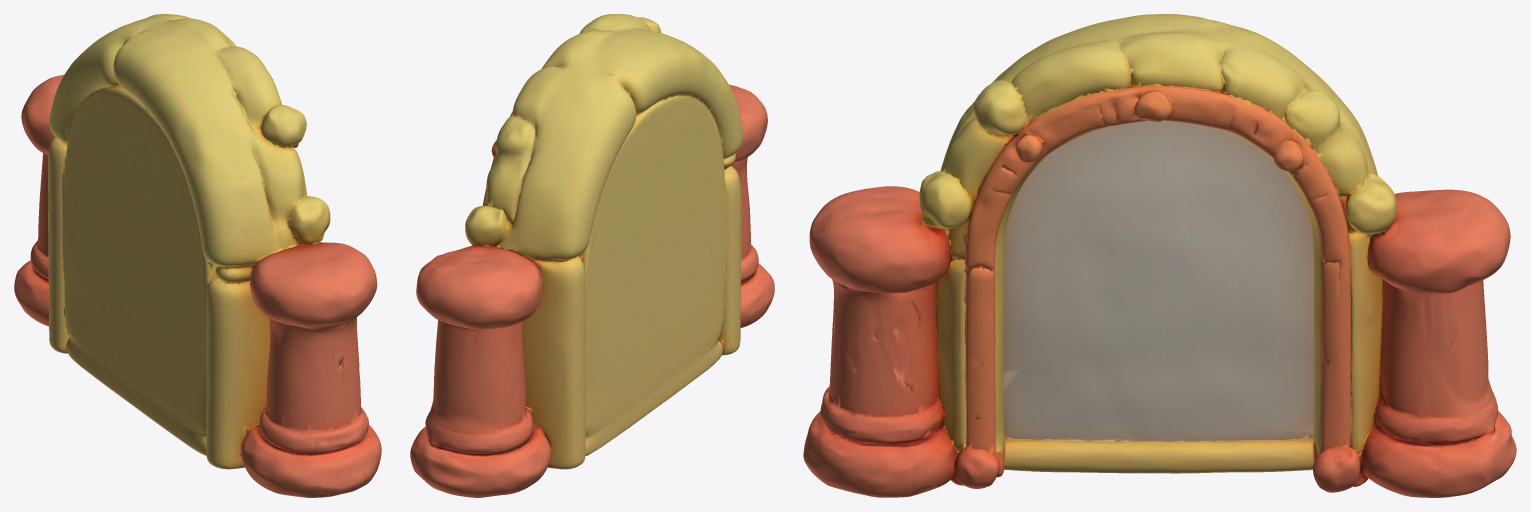
File: env_nest_arch_01.glb
3 views of the same model, side by side, from view 1: azimuth 30°, elevation 25°; view 2: azimuth 150°, elevation 25°; view 3: azimuth 270°, elevation 25° (orthographic). The views are drawn at different scales.
Parts seen in each view (by area): view 1: tripo_node_a0e7c1fe-4a0e-4bda-b374-2bde146a8497; view 2: tripo_node_a0e7c1fe-4a0e-4bda-b374-2bde146a8497; view 3: tripo_node_a0e7c1fe-4a0e-4bda-b374-2bde146a8497.
Boxes of the visible parts, x1,y1,x2,y2 form: tripo_node_a0e7c1fe-4a0e-4bda-b374-2bde146a8497: (14, 14, 381, 497); tripo_node_a0e7c1fe-4a0e-4bda-b374-2bde146a8497: (410, 14, 774, 497); tripo_node_a0e7c1fe-4a0e-4bda-b374-2bde146a8497: (803, 14, 1516, 497).
Bounding box in the file's own units: 1.21 × 3.2 × 4.71.
Materials: 1 (1 with a texture image).
